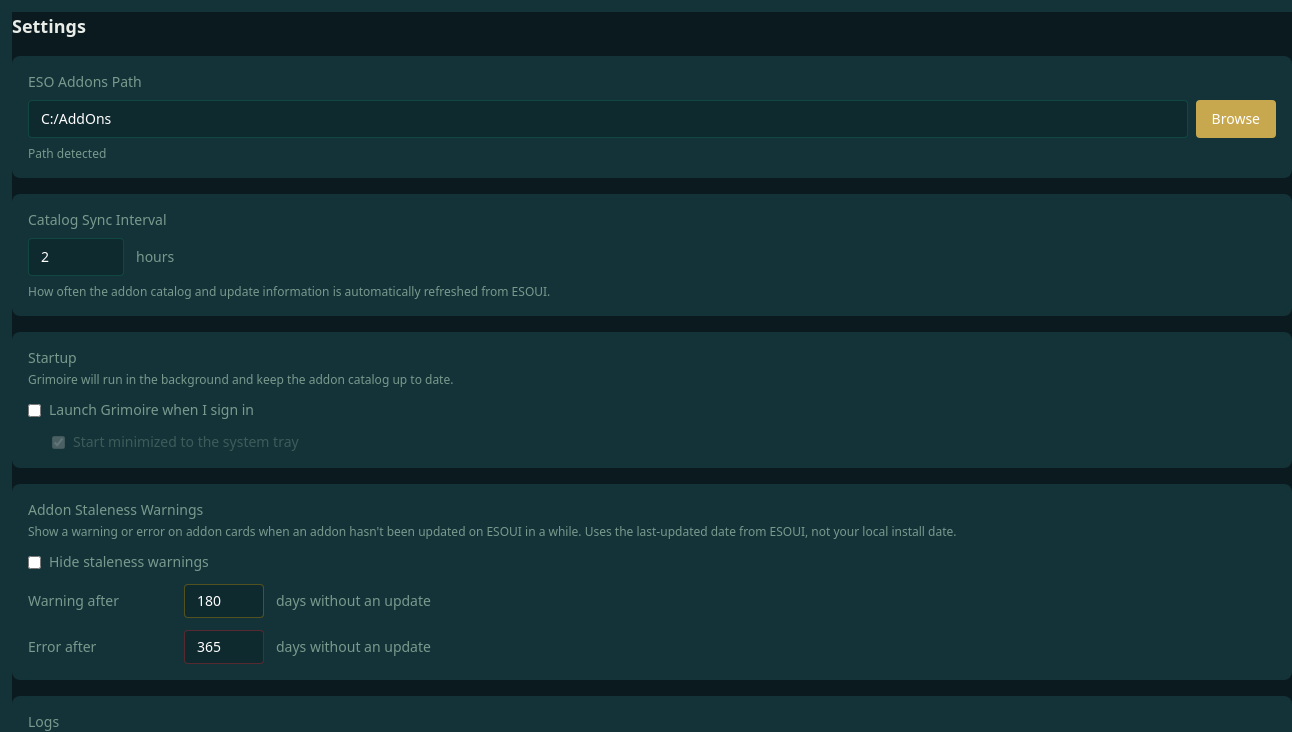
Test case: SettingsPage startup › reverts the checkbox and shows the error when enabling fails
The width and height of the screenshot is (1292, 732).
Check: the text "Path detected" is shown, box [28,145,106,162]
Click the checkbox labelled "Launch Grimoire when I sign in" at point(34, 410), box [28,404,41,416]
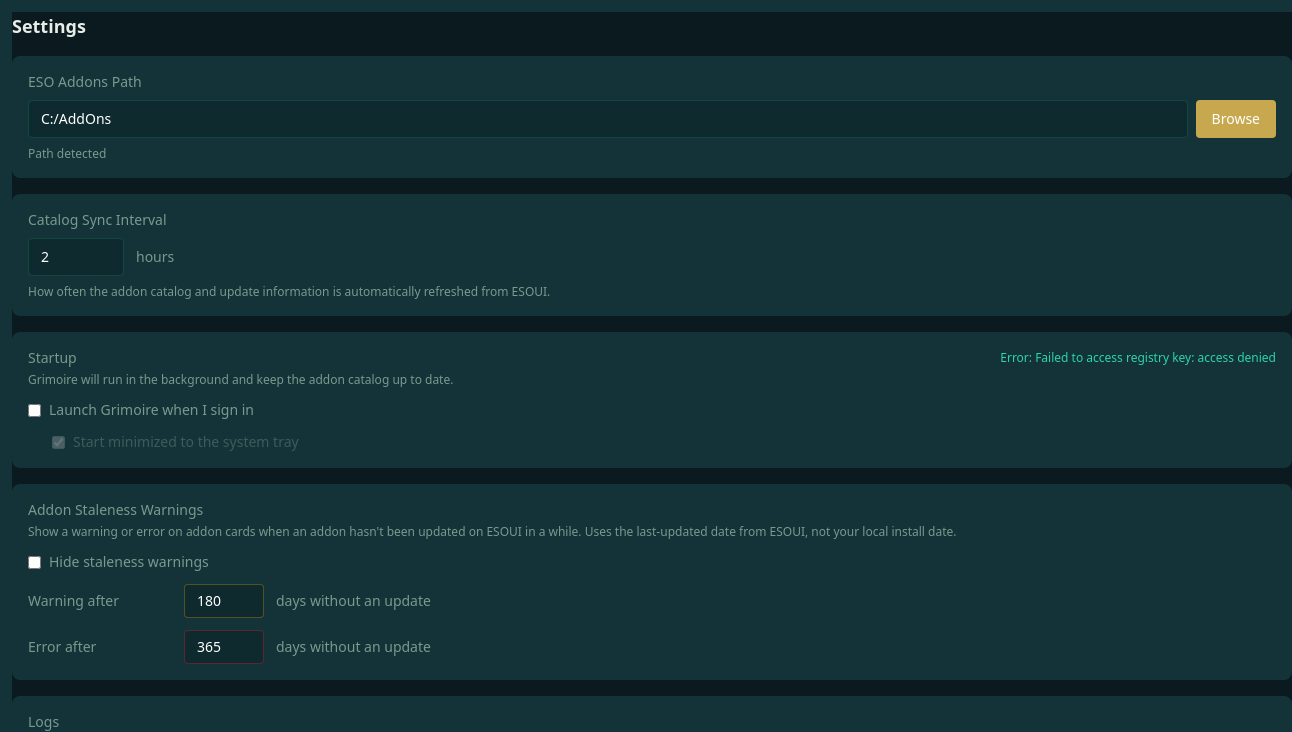
Check: the text "Error: Failed to access registry key: access denied" is shown, box [1000,350,1276,366]
